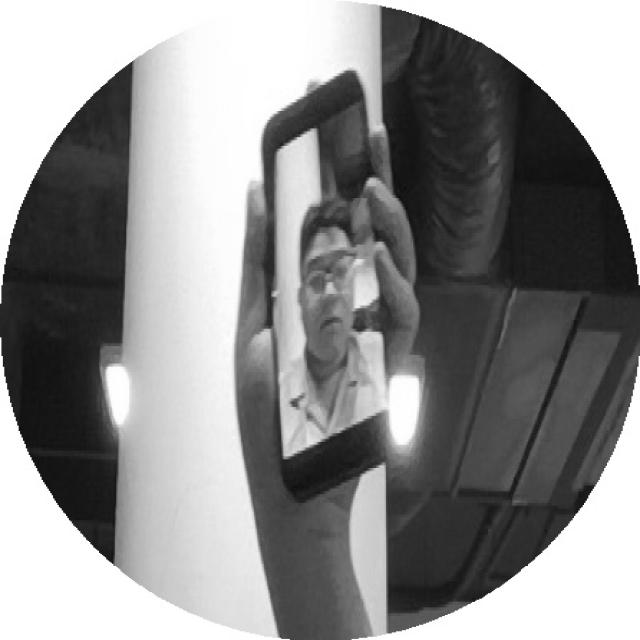fake: (226, 59, 416, 512), (293, 196, 380, 415)
